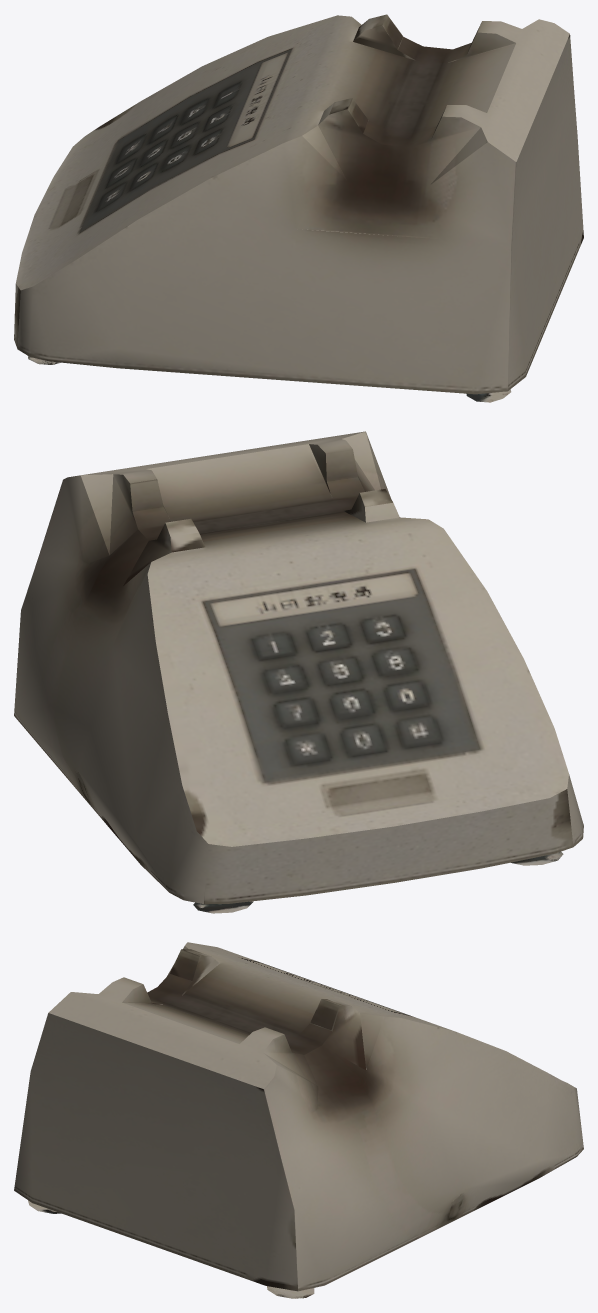
File: P_Phone.fbx
3 renders of one model, top to bottom at view 1: azimuth 30°, elevation 25°; view 2: azimuth 150°, elevation 25°; view 3: azimuth 270°, elevation 25°, orthographic. The views are drawn at different scales.
Visible parts, largest first — view 1: P_Phone; view 2: P_Phone; view 3: P_Phone.
Boxes of the visible parts, bbox=[...] form: P_Phone: bbox=[14, 14, 583, 402]; P_Phone: bbox=[14, 431, 583, 913]; P_Phone: bbox=[14, 942, 583, 1298].
Bounding box in the file's own units: 41.06 × 17.57 × 40.35.
1 material, 1 textured.
